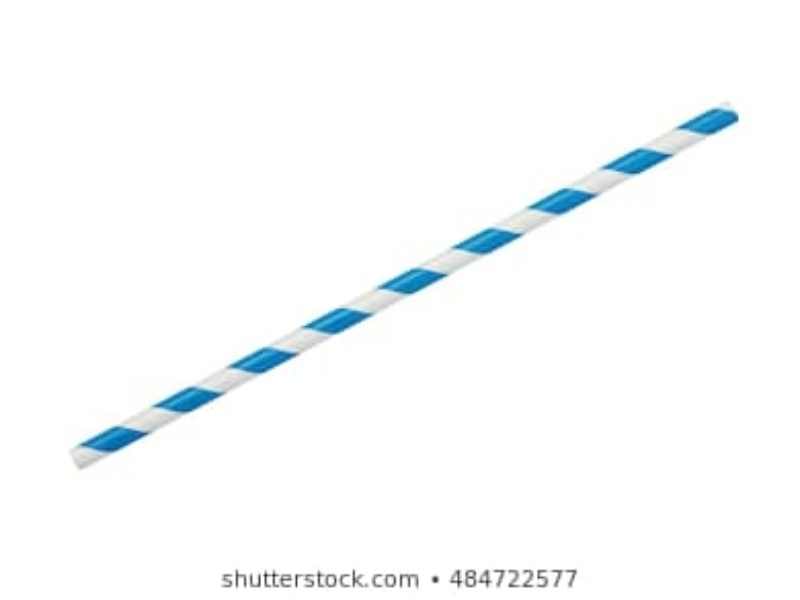straw: (66, 98, 737, 479)
